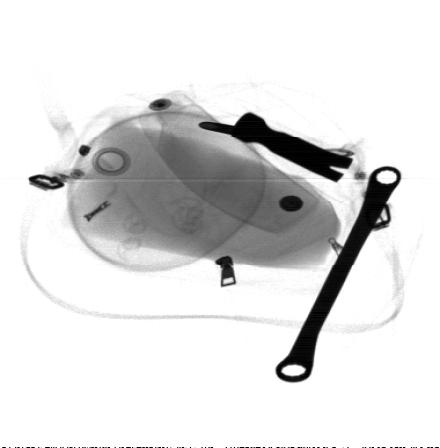Hammer: (195, 112, 356, 182)
Wrench: (275, 167, 402, 384)
